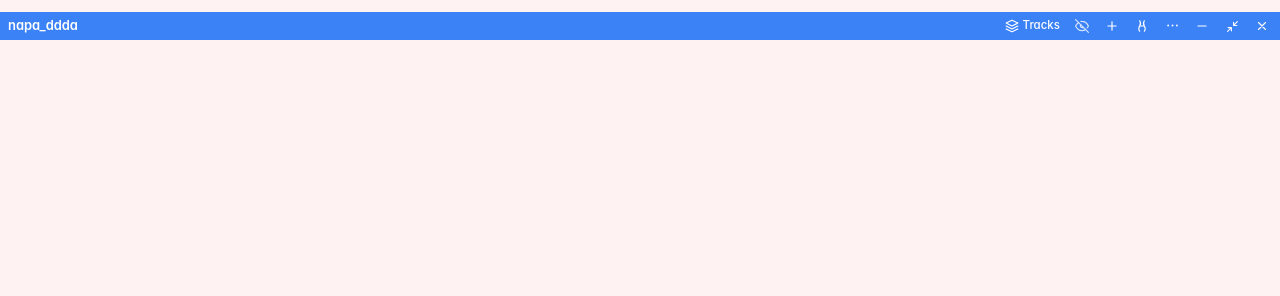
Scenario: Regions panel: zoom window and haplotype entry points › opens on Compare haplotypes from a dataset panel's menu, filled in with that panel's locus
What coordinates should you click on to do the following:
click the button with test id "panel-actions-p9"
I would click on:
 (1172, 25)
Its box is [1160, 13, 1184, 37].
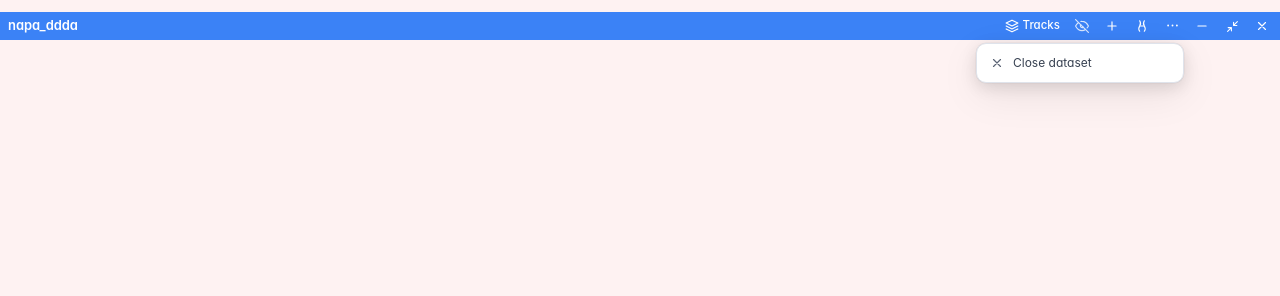
What coordinates should you click on to do the following:
click the button named "Compare haplotypes…"
I would click on:
 (1142, 26)
Its box is [1130, 14, 1154, 38].
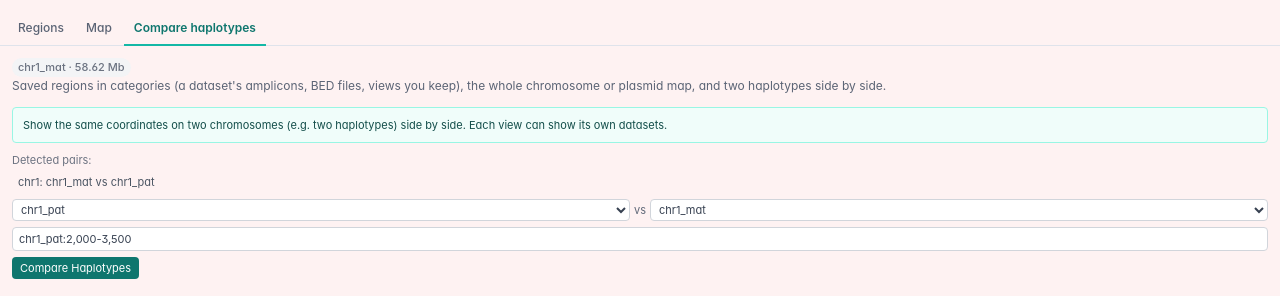
Expected: the element that starts with "Detected pairs:" is shown, [12, 150, 1268, 278]
Expected: the field named "Gene or region to compare" holds "chr1_pat:2,000-3,500", [12, 226, 1268, 250]
